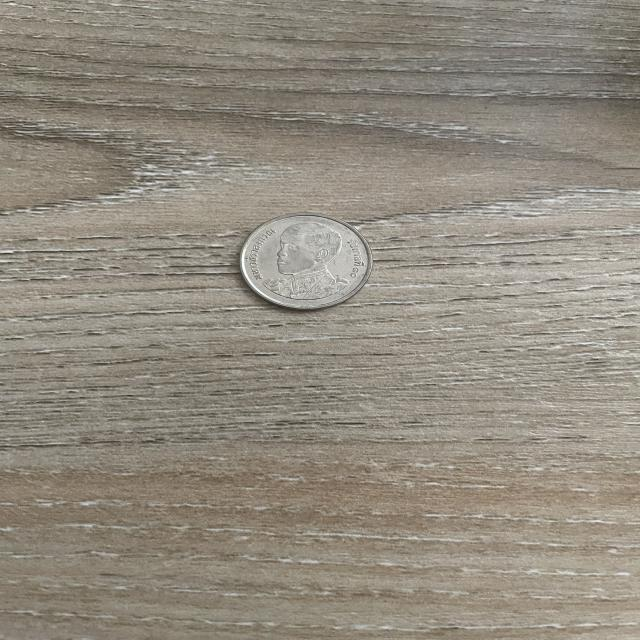1 Bath: (234, 209, 380, 320)
